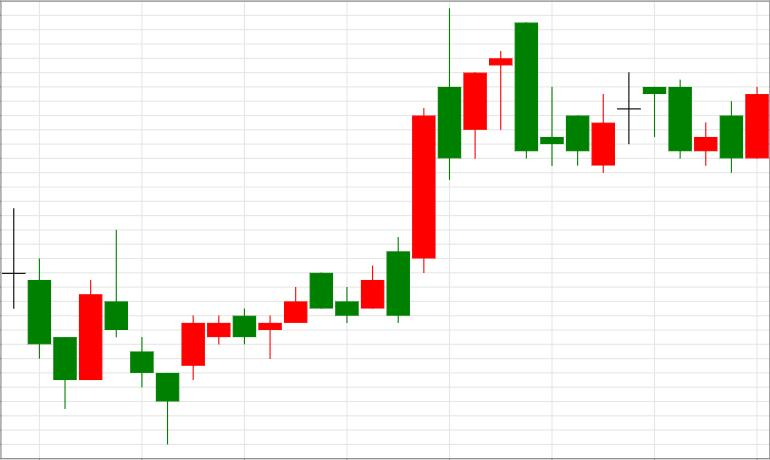bearish_engulfing_fall: (413, 8, 538, 273)
